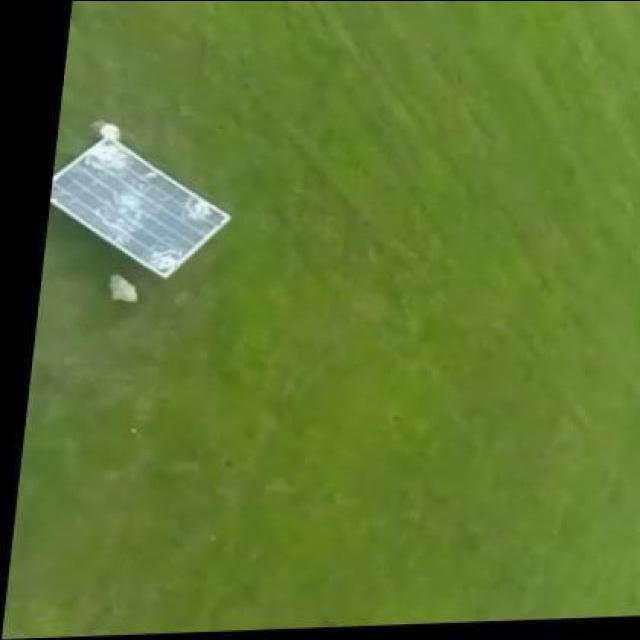cracked: (45, 126, 236, 279)
